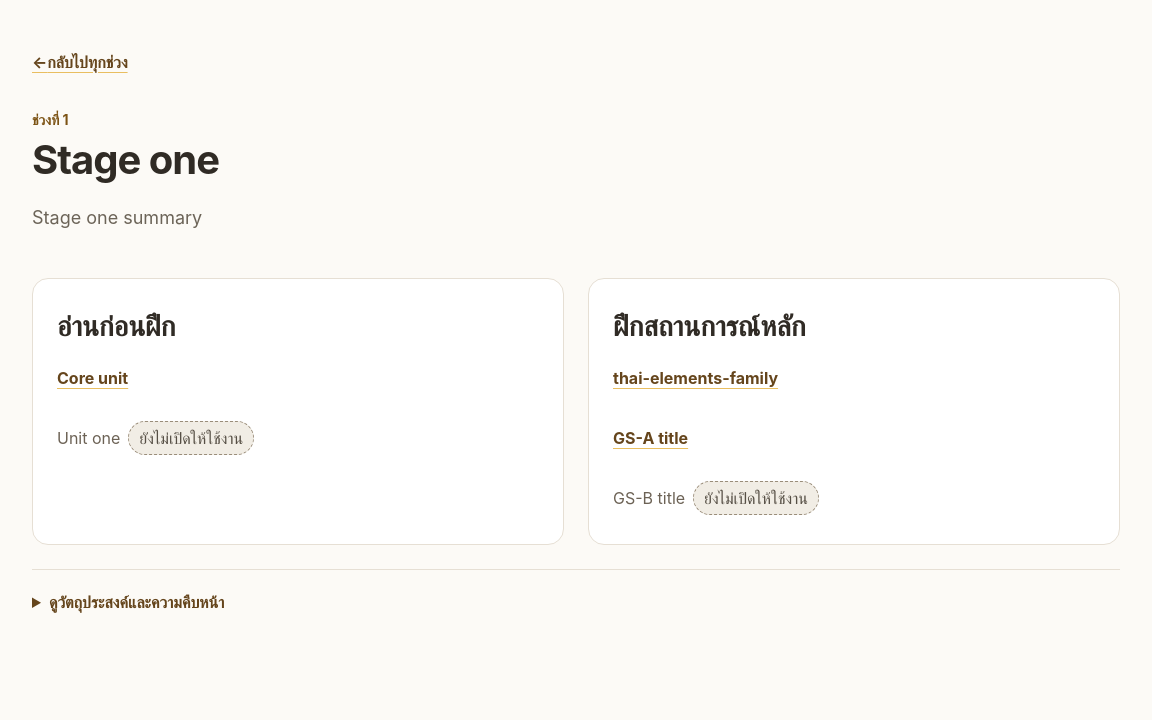
Test case: Learning Journey › counts an objective as done only from finished attempts
This screenshot has width=1152, height=720.
Expected: the heading "Stage one" is shown, left=32, top=134, right=219, bottom=184
Click the heading "ดูวัตถุประสงค์และความคืบหน้า": (137, 602) left=49, top=592, right=224, bottom=612
(page scrolled)
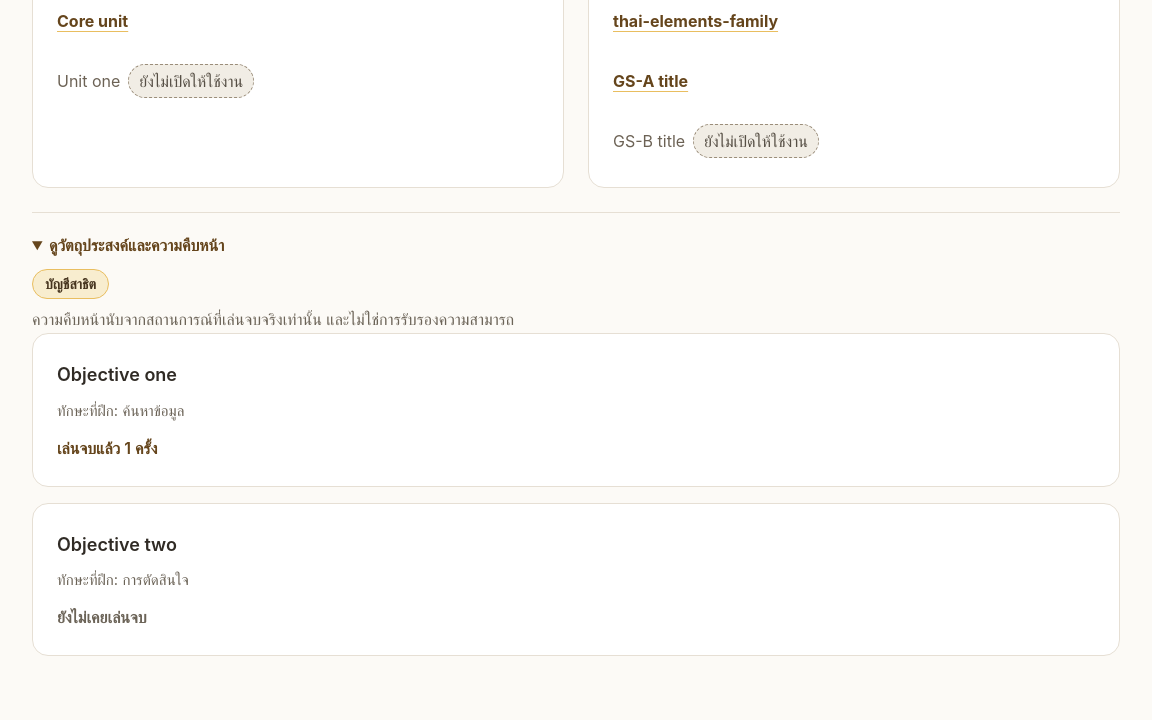
Expected: the text "ยังไม่เคยเล่นจบ" is shown, left=57, top=607, right=147, bottom=627
